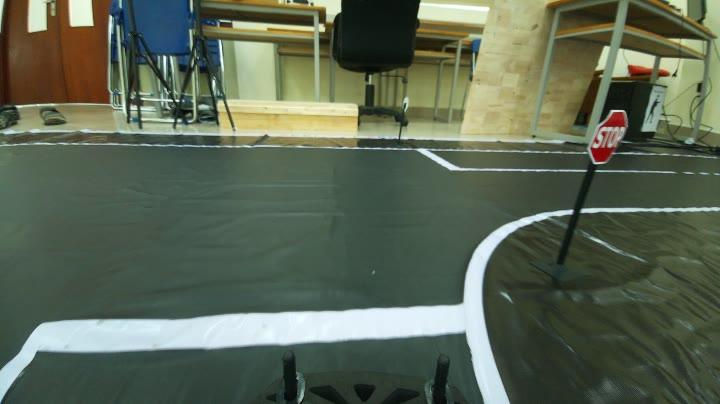stop: (584, 108, 643, 174)
